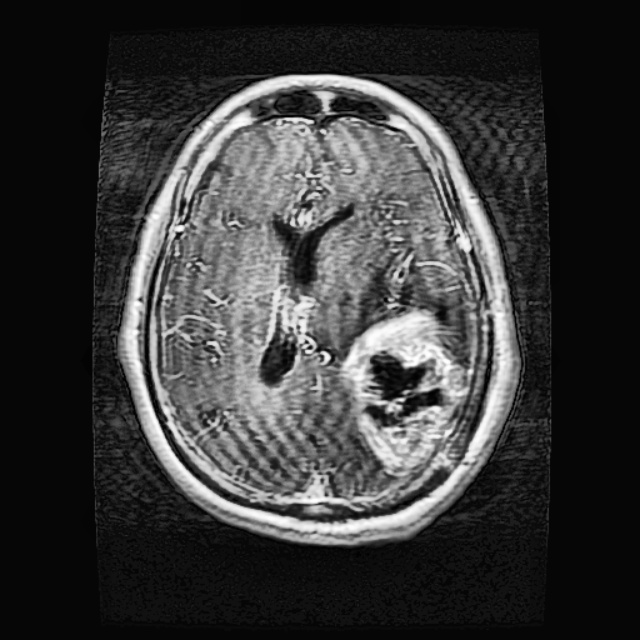Glioma: (340, 304, 469, 472)
